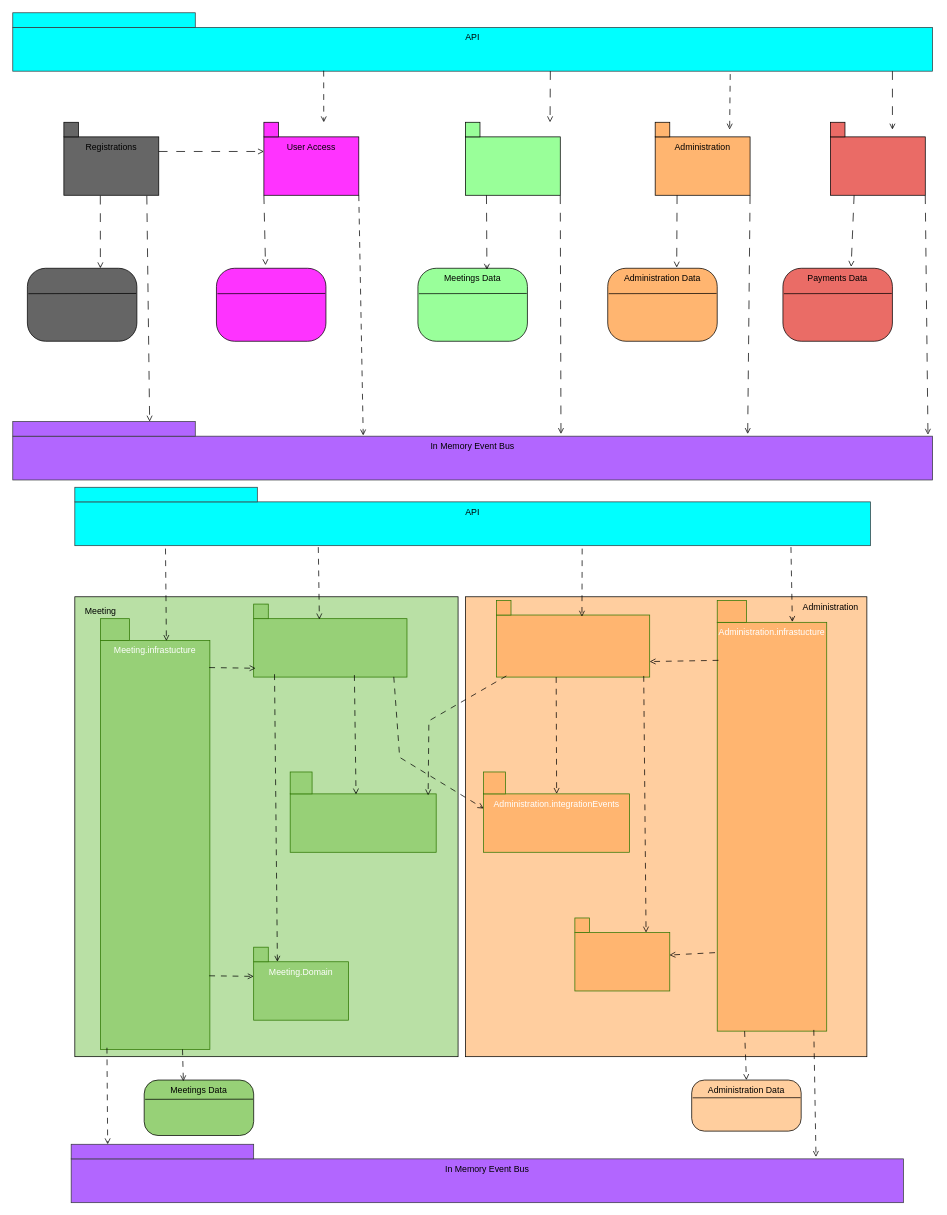
Some shapes in this 947 by 1215 pixel diagram are drawn without their labels. Each missing label, with the centre of its shape:
"Administration.Application" belongs at [573,645].
"Administration.Domain" belongs at [622,961].
"Meeting.Application" belongs at [330,647].
"Meeting.integrationEvents" belongs at [362,822].
"Meetings" belongs at [512,165].
"Payments" belongs at [877,165].
"Registrations Data" belongs at [82,304].
"User Access Data" belongs at [271,304].
